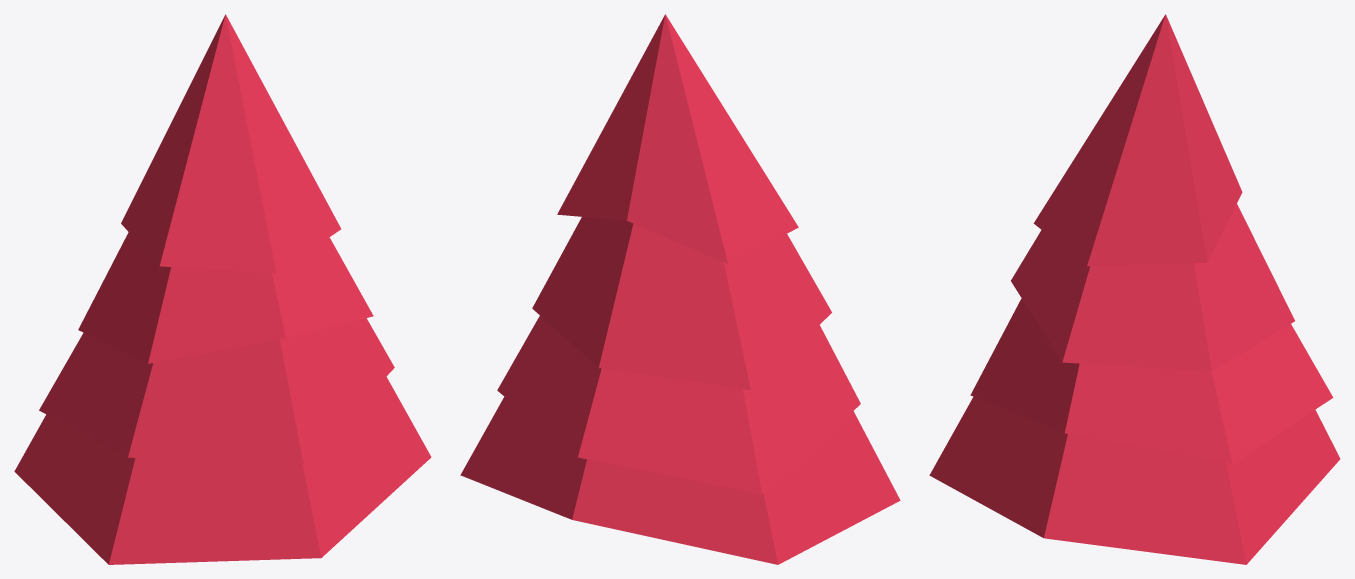
File: tree.fbx
3 views of the same model, side by side, from view 1: azimuth 30°, elevation 25°; view 2: azimuth 150°, elevation 25°; view 3: azimuth 270°, elevation 25° (orthographic). The views are drawn at different scales.
Parts seen in each view (by area): view 1: Cylinder.002; view 2: Cylinder.002; view 3: Cylinder.002.
Part boxes in pixels (x1,y1,x2,y2): Cylinder.002: [14, 14, 431, 564]; Cylinder.002: [460, 14, 900, 564]; Cylinder.002: [929, 14, 1340, 564].
Bounding box in the file's own units: 1.88 × 2.74 × 1.96.
